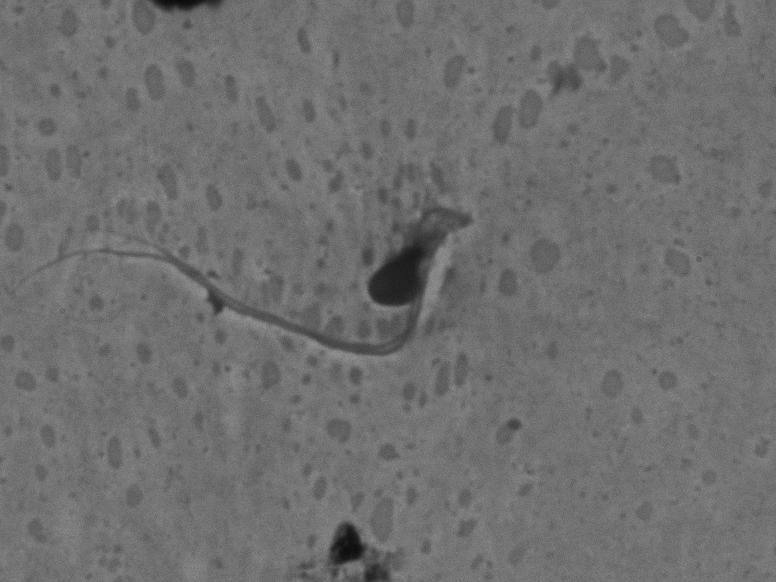Abnormal: (13, 158, 462, 383)
